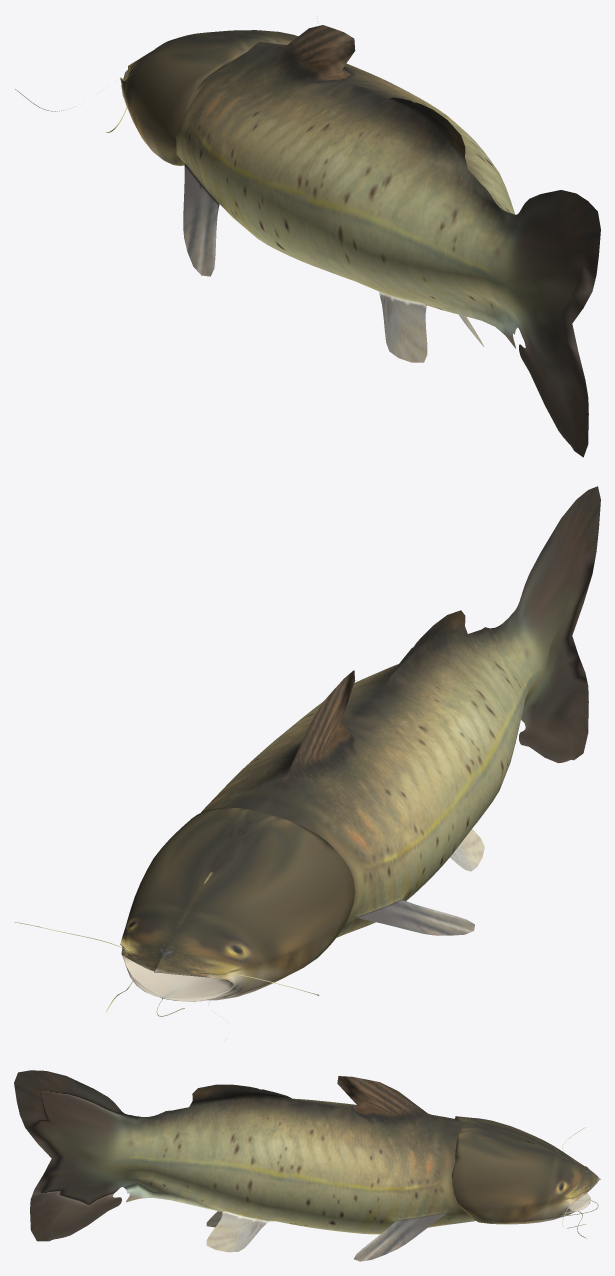
Rendered from Bagre.fbx.
3 views of the same model, one above another, from view 1: azimuth 30°, elevation 25°; view 2: azimuth 150°, elevation 25°; view 3: azimuth 270°, elevation 25° (orthographic). The views are drawn at different scales.
Visible parts, largest first — view 1: Bagre, Bagre.001; view 2: Bagre, Bagre.001; view 3: Bagre, Bagre.001.
Boxes of the visible parts, bbox=[...] form: Bagre: bbox=[175, 25, 600, 457]; Bagre.001: bbox=[15, 18, 348, 268]; Bagre: bbox=[201, 486, 600, 937]; Bagre.001: bbox=[14, 807, 355, 1016]; Bagre: bbox=[14, 1070, 475, 1261]; Bagre.001: bbox=[273, 1116, 600, 1238].
Bounding box in the file's own units: 222 × 182 × 565.
